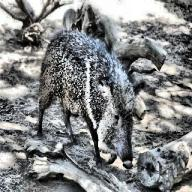boar: (36, 28, 146, 169)
